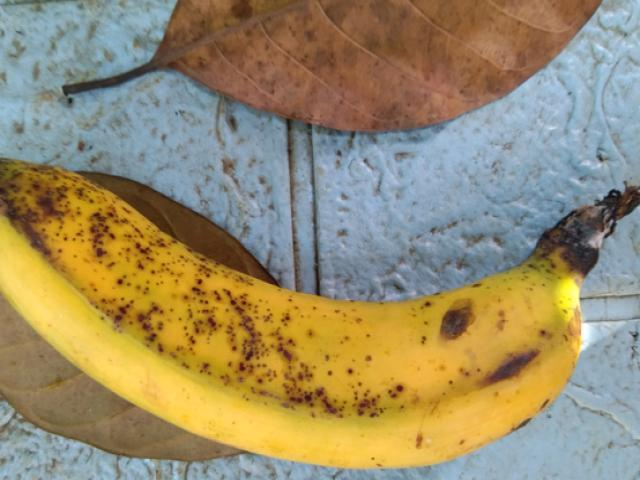ripe: (7, 137, 607, 479)
